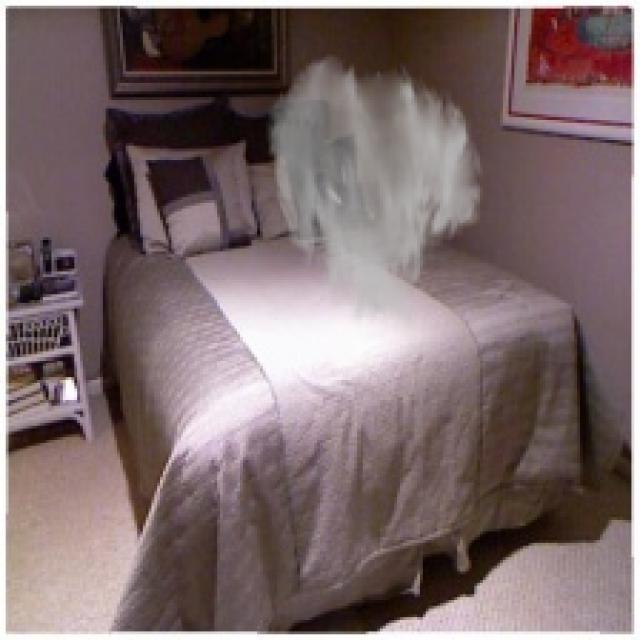Smoke: (266, 52, 486, 334)
